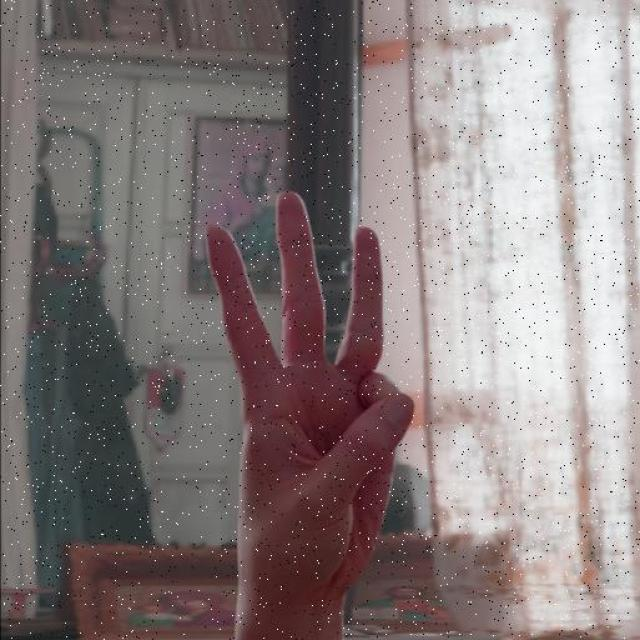W: (200, 187, 416, 603)
